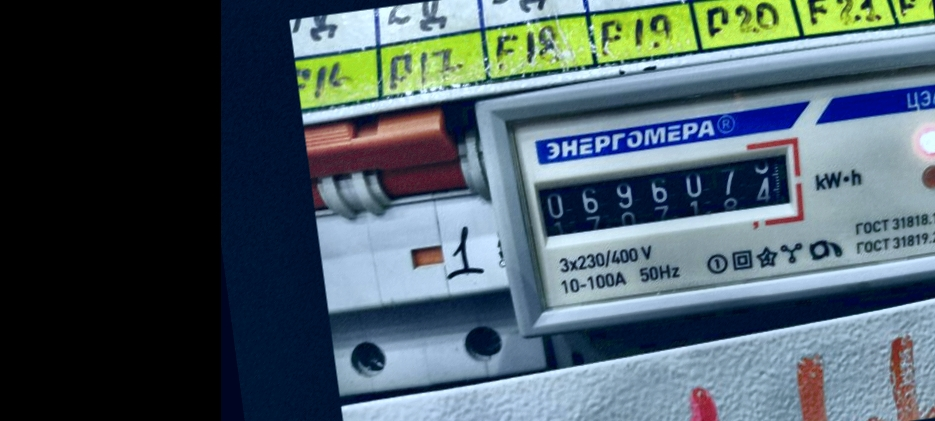0: (542, 189, 566, 221), (681, 167, 704, 200)
4: (750, 174, 772, 205)
6: (575, 183, 601, 216), (647, 174, 669, 204)
7: (716, 164, 737, 196)
9: (612, 180, 634, 211)
screen: (514, 130, 809, 257)
